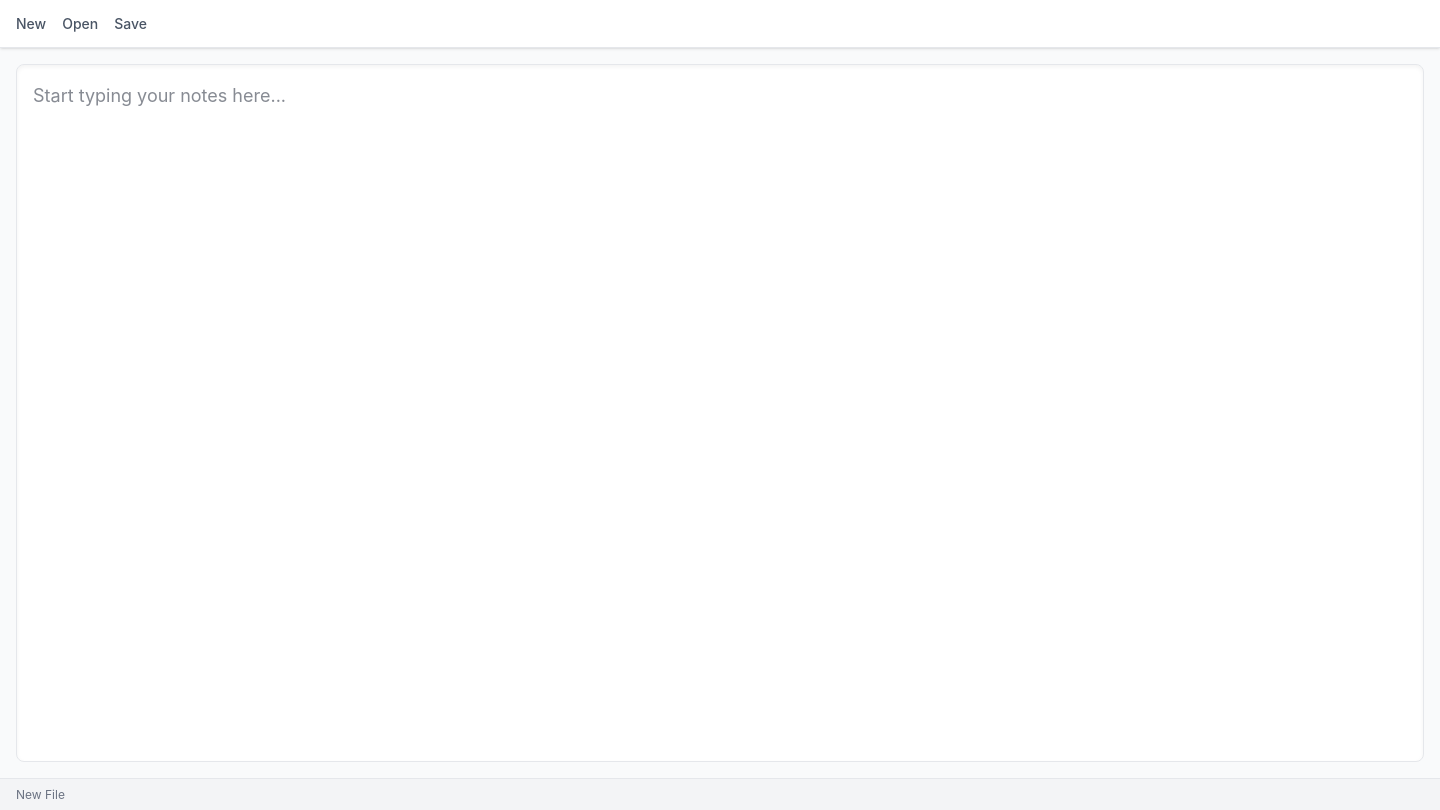
Scenario: MemoPage › handles file-saved event from main process
The width and height of the screenshot is (1440, 810).
Type "saved text" into the text box.
click(720, 413); type("saved text")  # box [33, 81, 1407, 745]
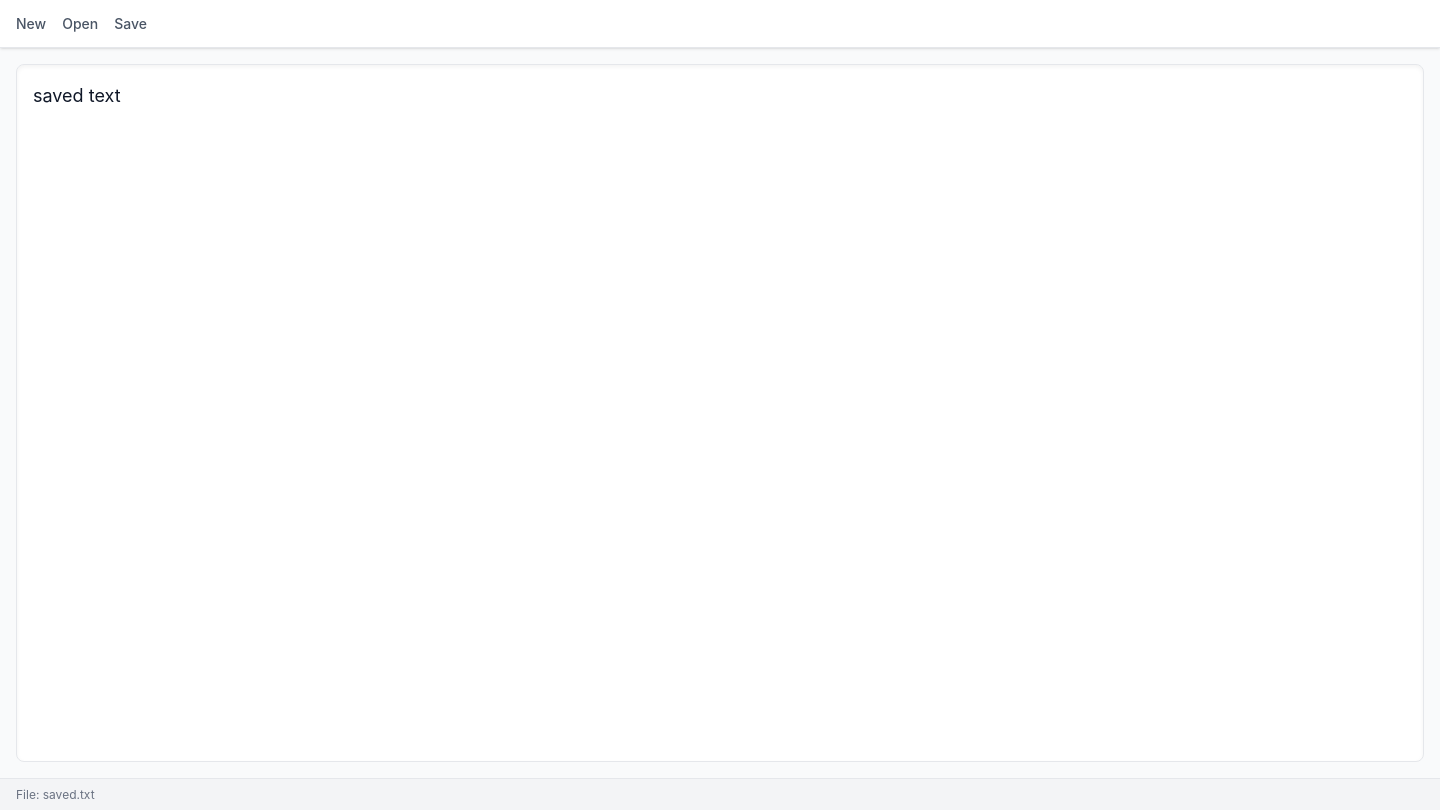
Check: the text "File: saved.txt" is shown, box [16, 786, 95, 802]
